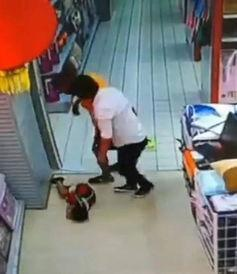Fall-Detected: (50, 170, 99, 223)
